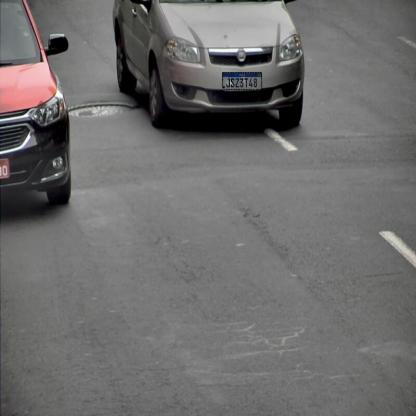PlacaM: (222, 72, 262, 90)
